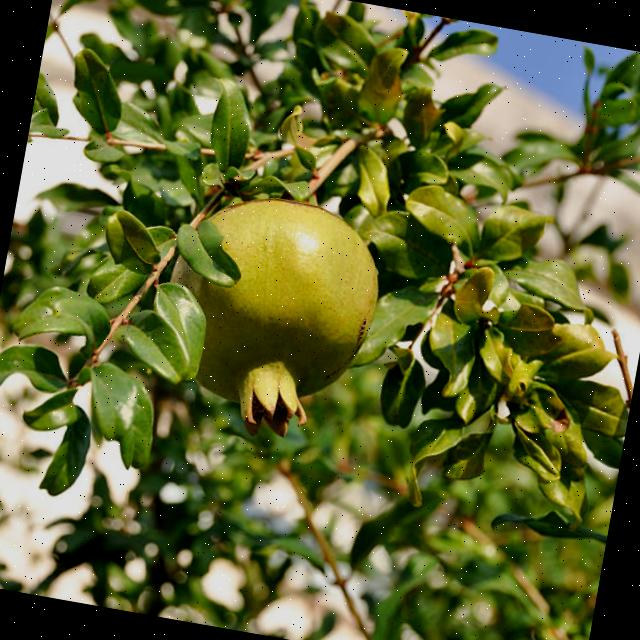Unripe: (144, 175, 390, 454)
